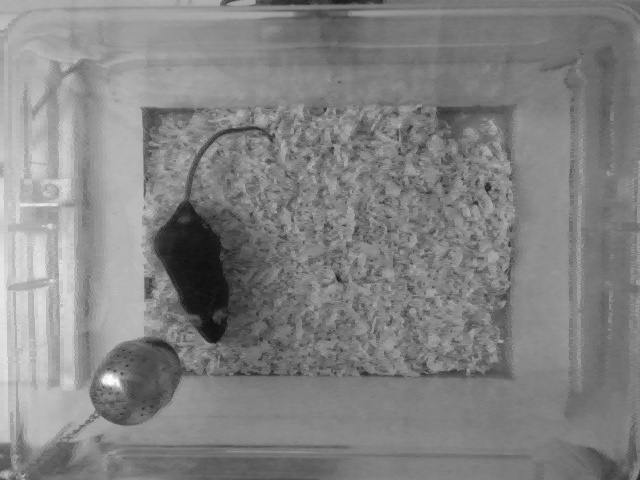mice: (154, 122, 276, 350)
